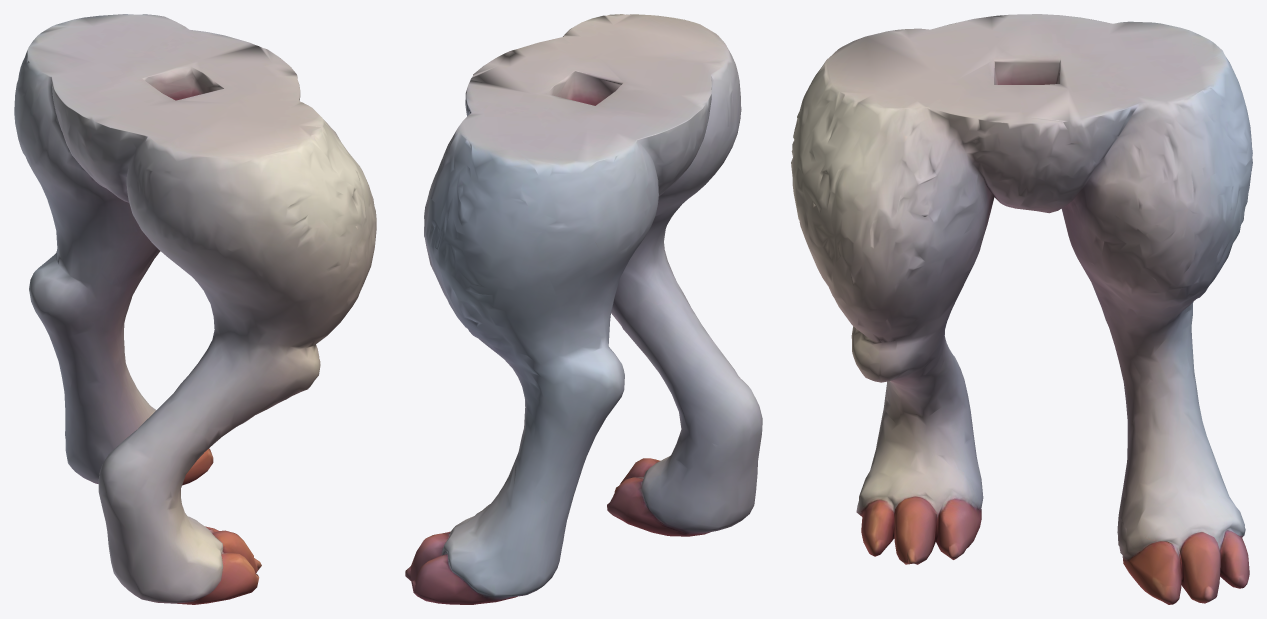
Rendered from legs.glb.
3 renders of one model, left to right at view 1: azimuth 30°, elevation 25°; view 2: azimuth 150°, elevation 25°; view 3: azimuth 270°, elevation 25°, orthographic. The views are drawn at different scales.
Parts seen in each view (by area): view 1: tripo_node_86fcee8f-ae72-41b5-9812-8e6a6e2c1512; view 2: tripo_node_86fcee8f-ae72-41b5-9812-8e6a6e2c1512; view 3: tripo_node_86fcee8f-ae72-41b5-9812-8e6a6e2c1512.
Part boxes in pixels (x1,y1,x2,y2): tripo_node_86fcee8f-ae72-41b5-9812-8e6a6e2c1512: [14, 14, 376, 604]; tripo_node_86fcee8f-ae72-41b5-9812-8e6a6e2c1512: [405, 14, 762, 604]; tripo_node_86fcee8f-ae72-41b5-9812-8e6a6e2c1512: [791, 14, 1252, 604].
Bounding box in the file's own units: 0.5644 × 1 × 0.8579.
1 material, 1 textured.
